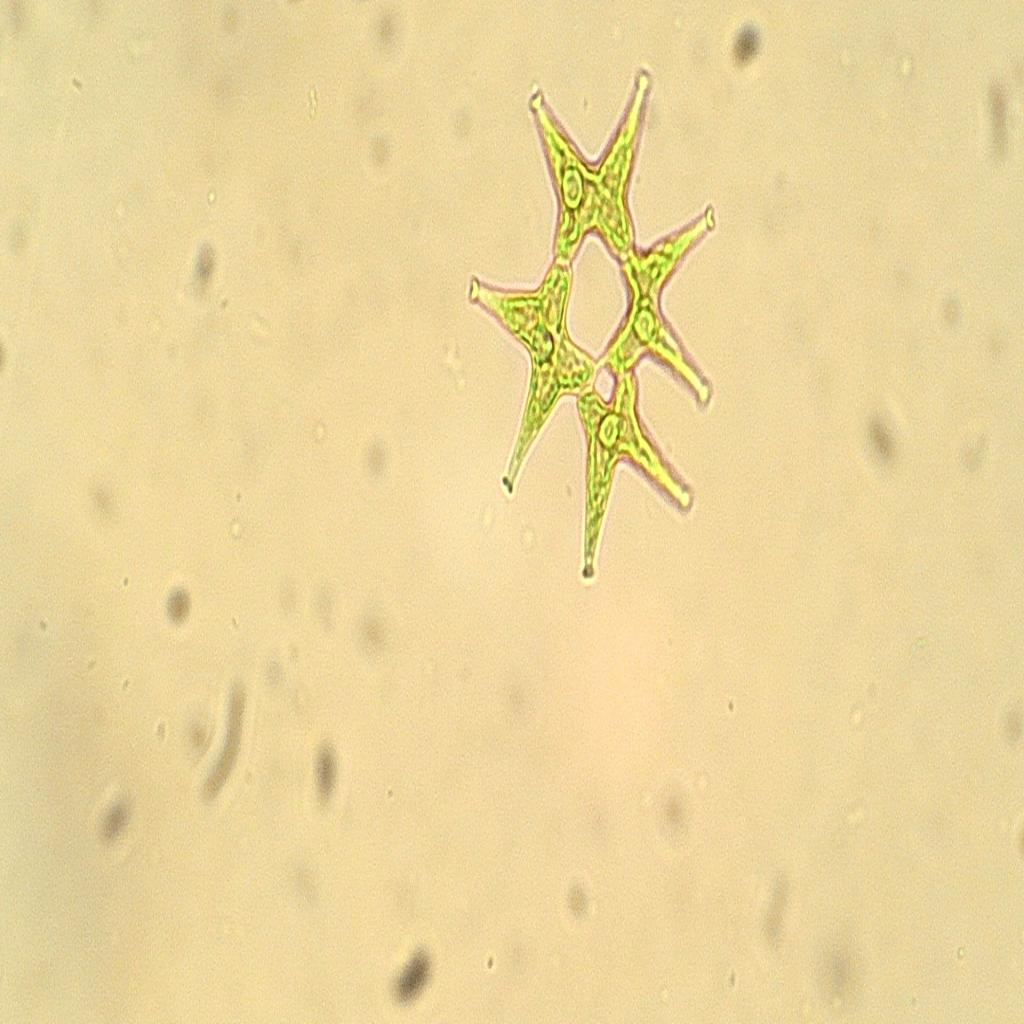Pediastrum_CF: (454, 45, 740, 594)
